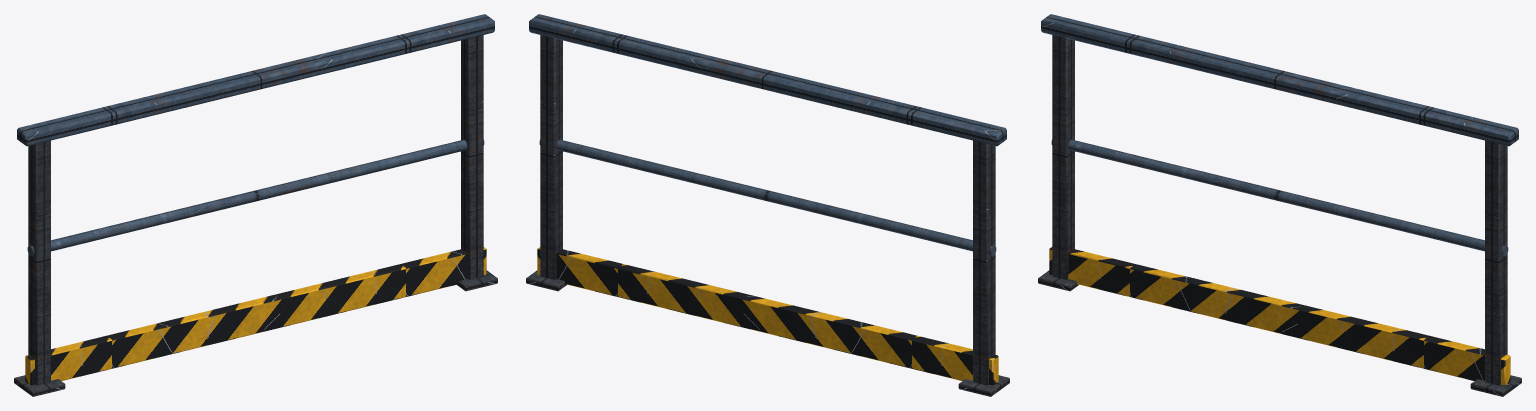
The model's file is industrial-railing-2m-lowpoly.glb.
3 renders of one model, left to right at view 1: azimuth 30°, elevation 25°; view 2: azimuth 150°, elevation 25°; view 3: azimuth 330°, elevation 25°, orthographic.
Visible parts, largest first — view 1: barandilla_2m; view 2: barandilla_2m; view 3: barandilla_2m.
Part boxes in pixels (x1,y1,x2,y2): barandilla_2m: [14, 14, 497, 396]; barandilla_2m: [526, 14, 1009, 396]; barandilla_2m: [1038, 14, 1521, 396].
Bounding box in the file's own units: 2 × 1.06 × 0.14.
3 materials, 3 textured.
